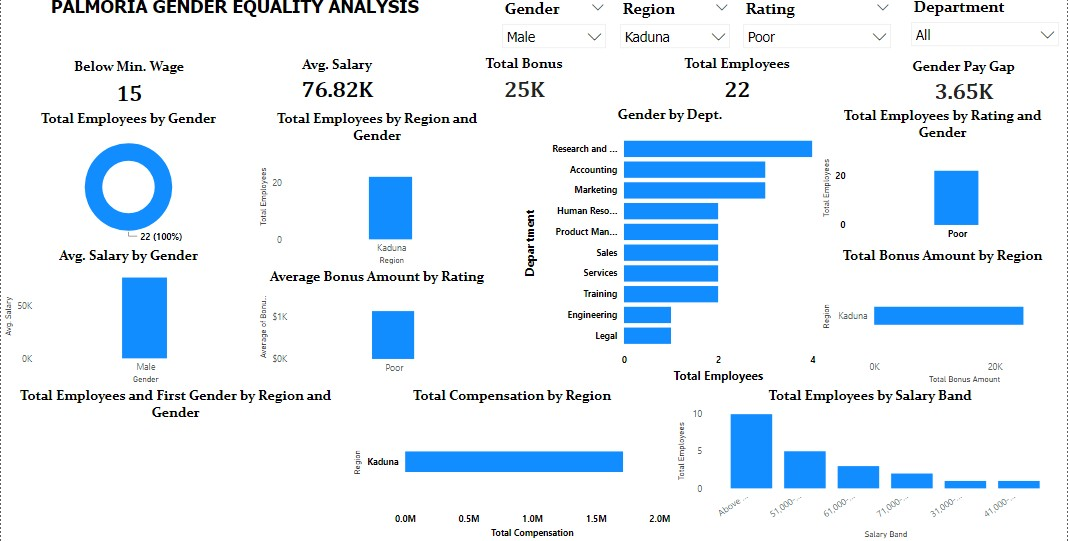

This screenshot's page, from the dashboard's own definition file:
{"tool":"powerbi","page":{"name":"Page 1","canvas":[1350,800],"ordinal":0},"visuals":[{"type":"donutChart","fields":{"Category":["Employee.Gender"],"Y":["Employee.Total Employees"]},"box":[0,210,306.7,190],"z":0},{"type":"columnChart","fields":{"Category":["Employee.Region"],"Y":["Employee.Total Employees"],"Series":["Employee.Gender"]},"box":[306.7,210,320,190],"z":1000},{"type":"barChart","title":"Gender by Dept.","fields":{"Category":["Employee.Department"],"Y":["Employee.Total Employees"],"Series":["Employee.Gender"]},"box":[943.3,206.7,406.7,315],"z":2000},{"type":"clusteredColumnChart","fields":{"Category":["Employee.Rating"],"Y":["Employee.Total Employees"],"Series":["Employee.Gender"]},"box":[626.7,208.3,316.7,191.7],"z":3000},{"type":"clusteredColumnChart","fields":{"Y":["Employee.Avg. Salary"],"Category":["Employee.Gender"]},"box":[0,400,276.7,198.3],"z":4000},{"type":"map","fields":{"Category":["Employee.Region"],"Size":["Employee.Total Employees"]},"box":[943.3,521.7,406.7,278.3],"z":5000},{"type":"card","title":"Total Bonus","fields":{"Values":["Employee.Total Bonus Amount"]},"box":[364.4,143.7,149.5,68.2],"z":6000},{"type":"barChart","fields":{"Y":["Employee.Total Bonus Amount"],"Category":["Employee.Region"]},"box":[276.7,400,315,201.7],"z":7000},{"type":"clusteredColumnChart","title":"Average Bonus Amount by Rating","fields":{"Category":["Employee.Rating"],"Y":["Avg(Employee.Bonus Amount)"]},"box":[0,591.7,386.7,208.3],"z":8000},{"type":"clusteredBarChart","fields":{"Y":["Employee.Total Compensation"],"Category":["Employee.Region"]},"box":[591.7,400,351.7,201.7],"z":9000},{"type":"card","title":"Avg. Salary","fields":{"Values":["Employee.Avg. Salary"]},"box":[217.8,145.2,146.6,66.8],"z":10000},{"type":"card","title":"Gender Pay Gap","fields":{"Values":["Employee.Gender Pay Gap"]},"box":[696.9,143.7,177.1,66.8],"z":11000},{"type":"card","title":"Below Min. Wage ","fields":{"Values":["Employee.Below MIN."]},"box":[11.6,140.8,206.2,72.6],"z":12000},{"type":"card","title":"Total Employees","fields":{"Values":["Employee.Total Employees"]},"box":[514,143.7,182.9,68.2],"z":13000},{"type":"slicer","fields":{"Values":["Employee.Region"]},"box":[982.9,0,146.6,142.3],"z":14000},{"type":"slicer","fields":{"Values":["Employee.Department"]},"box":[1129.6,2.9,220.7,79.9],"z":15000},{"type":"slicer","fields":{"Values":["Employee.Rating"]},"box":[1129.6,82.8,220.7,78.4],"z":16000},{"type":"slicer","fields":{"Values":["Employee.Gender"]},"box":[834.8,0,148.1,140.8],"z":17000},{"type":"lineChart","fields":{"Category":["Employee.Salary Band"],"Y":["Employee.Total Employees"]},"box":[386.7,601.7,556.7,198.3],"z":18000},{"type":"textbox","box":[0,0,785.5,122],"z":19000}]}

Visuals, with their boxes in screenshot pixels (x1, y1, x2, y2):
donutChart - Employee.Gender x Employee.Total Employees: rect(0, 118, 162, 254)
columnChart - Employee.Region x Employee.Total Employees: rect(162, 118, 392, 254)
"Gender by Dept." barChart: rect(619, 115, 912, 342)
clusteredColumnChart - Employee.Rating x Employee.Total Employees: rect(392, 116, 620, 254)
clusteredColumnChart - Employee.Avg. Salary x Employee.Gender: rect(0, 254, 140, 397)
map - Employee.Region x Employee.Total Employees: rect(619, 342, 912, 540)
"Total Bonus" card: rect(203, 70, 311, 119)
barChart - Employee.Total Bonus Amount x Employee.Region: rect(140, 254, 367, 399)
"Average Bonus Amount by Rating" clusteredColumnChart: rect(0, 392, 219, 540)
clusteredBarChart - Employee.Total Compensation x Employee.Region: rect(367, 254, 620, 399)
"Avg. Salary" card: rect(98, 71, 203, 119)
"Gender Pay Gap" card: rect(442, 70, 570, 118)
"Below Min. Wage " card: rect(0, 68, 98, 120)
"Total Employees" card: rect(311, 70, 442, 119)
slicer - Employee.Region: rect(648, 0, 753, 69)
slicer - Employee.Department: rect(753, 0, 912, 26)
slicer - Employee.Rating: rect(753, 26, 912, 82)
slicer - Employee.Gender: rect(541, 0, 648, 68)
lineChart - Employee.Salary Band x Employee.Total Employees: rect(219, 399, 620, 540)
textbox: rect(0, 0, 506, 54)
